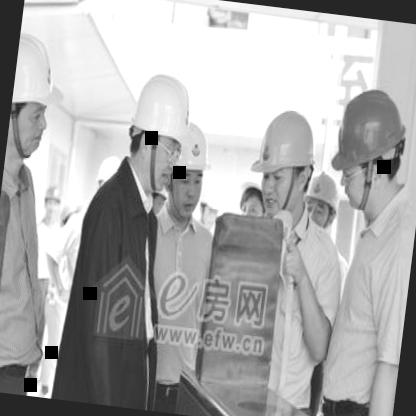helmet: (328, 84, 414, 210), (122, 64, 197, 198), (246, 98, 318, 218), (4, 30, 58, 170), (163, 120, 213, 218), (302, 172, 342, 239), (229, 162, 269, 228), (192, 174, 230, 241), (39, 178, 67, 226)
